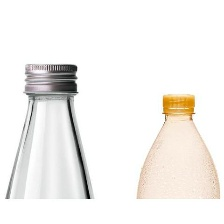bottle: (0, 53, 100, 204), (128, 80, 224, 201)
